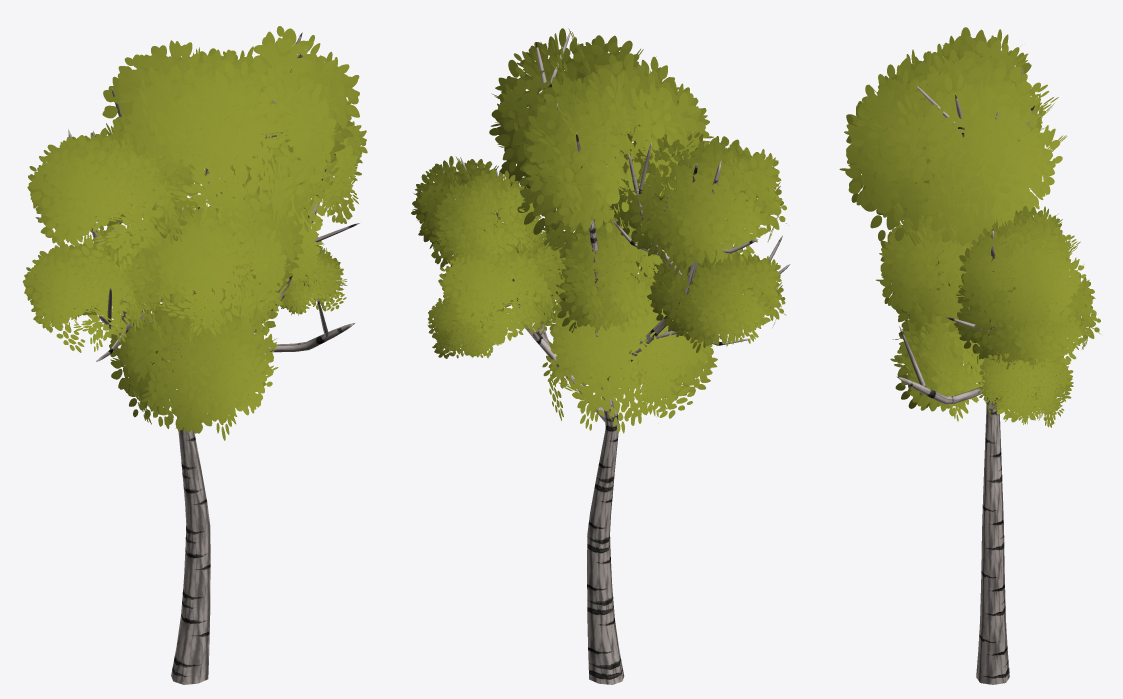
The model's file is BirchTree_3.gltf.
3 views of the same model, side by side, from view 1: azimuth 30°, elevation 25°; view 2: azimuth 150°, elevation 25°; view 3: azimuth 270°, elevation 25° (orthographic). The views are drawn at different scales.
Visible parts, largest first — view 1: BirchTree_3; view 2: BirchTree_3; view 3: BirchTree_3.
Boxes of the visible parts, x1,y1,x2,y2 form: BirchTree_3: (22,26,367,684); BirchTree_3: (411,28,790,684); BirchTree_3: (839,27,1100,684).
Size of the model in its own units: 3.43 by 5.75 by 2.27.
Materials: 2 (2 with a texture image).
